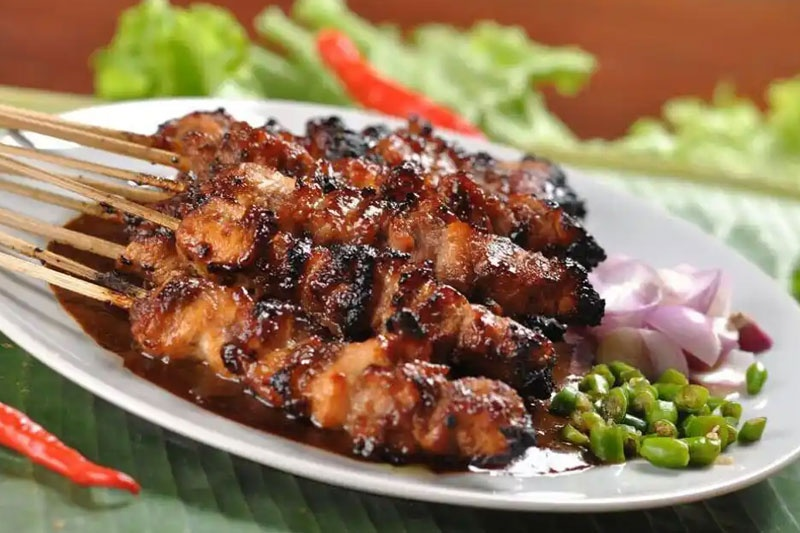sate: (0, 103, 607, 481)
